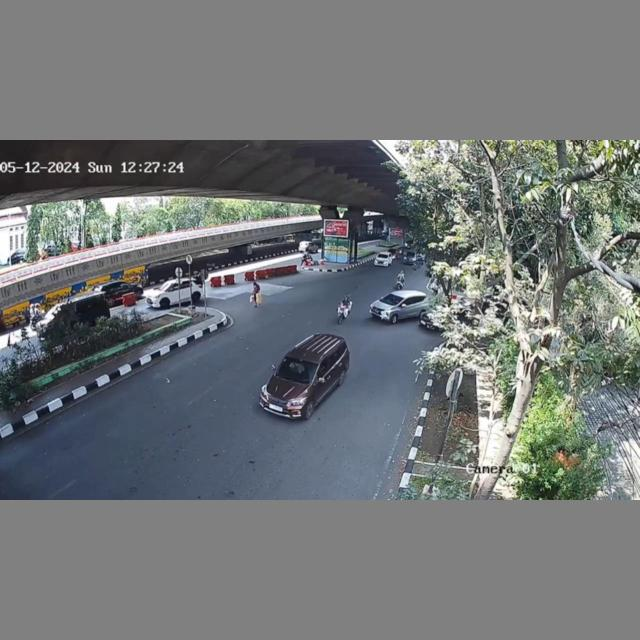windshield: (277, 357, 317, 384)
